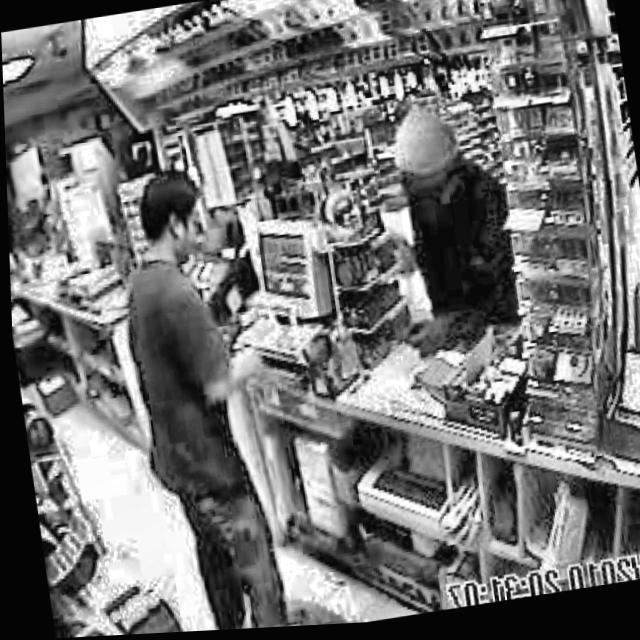robbery: (363, 95, 529, 375)
